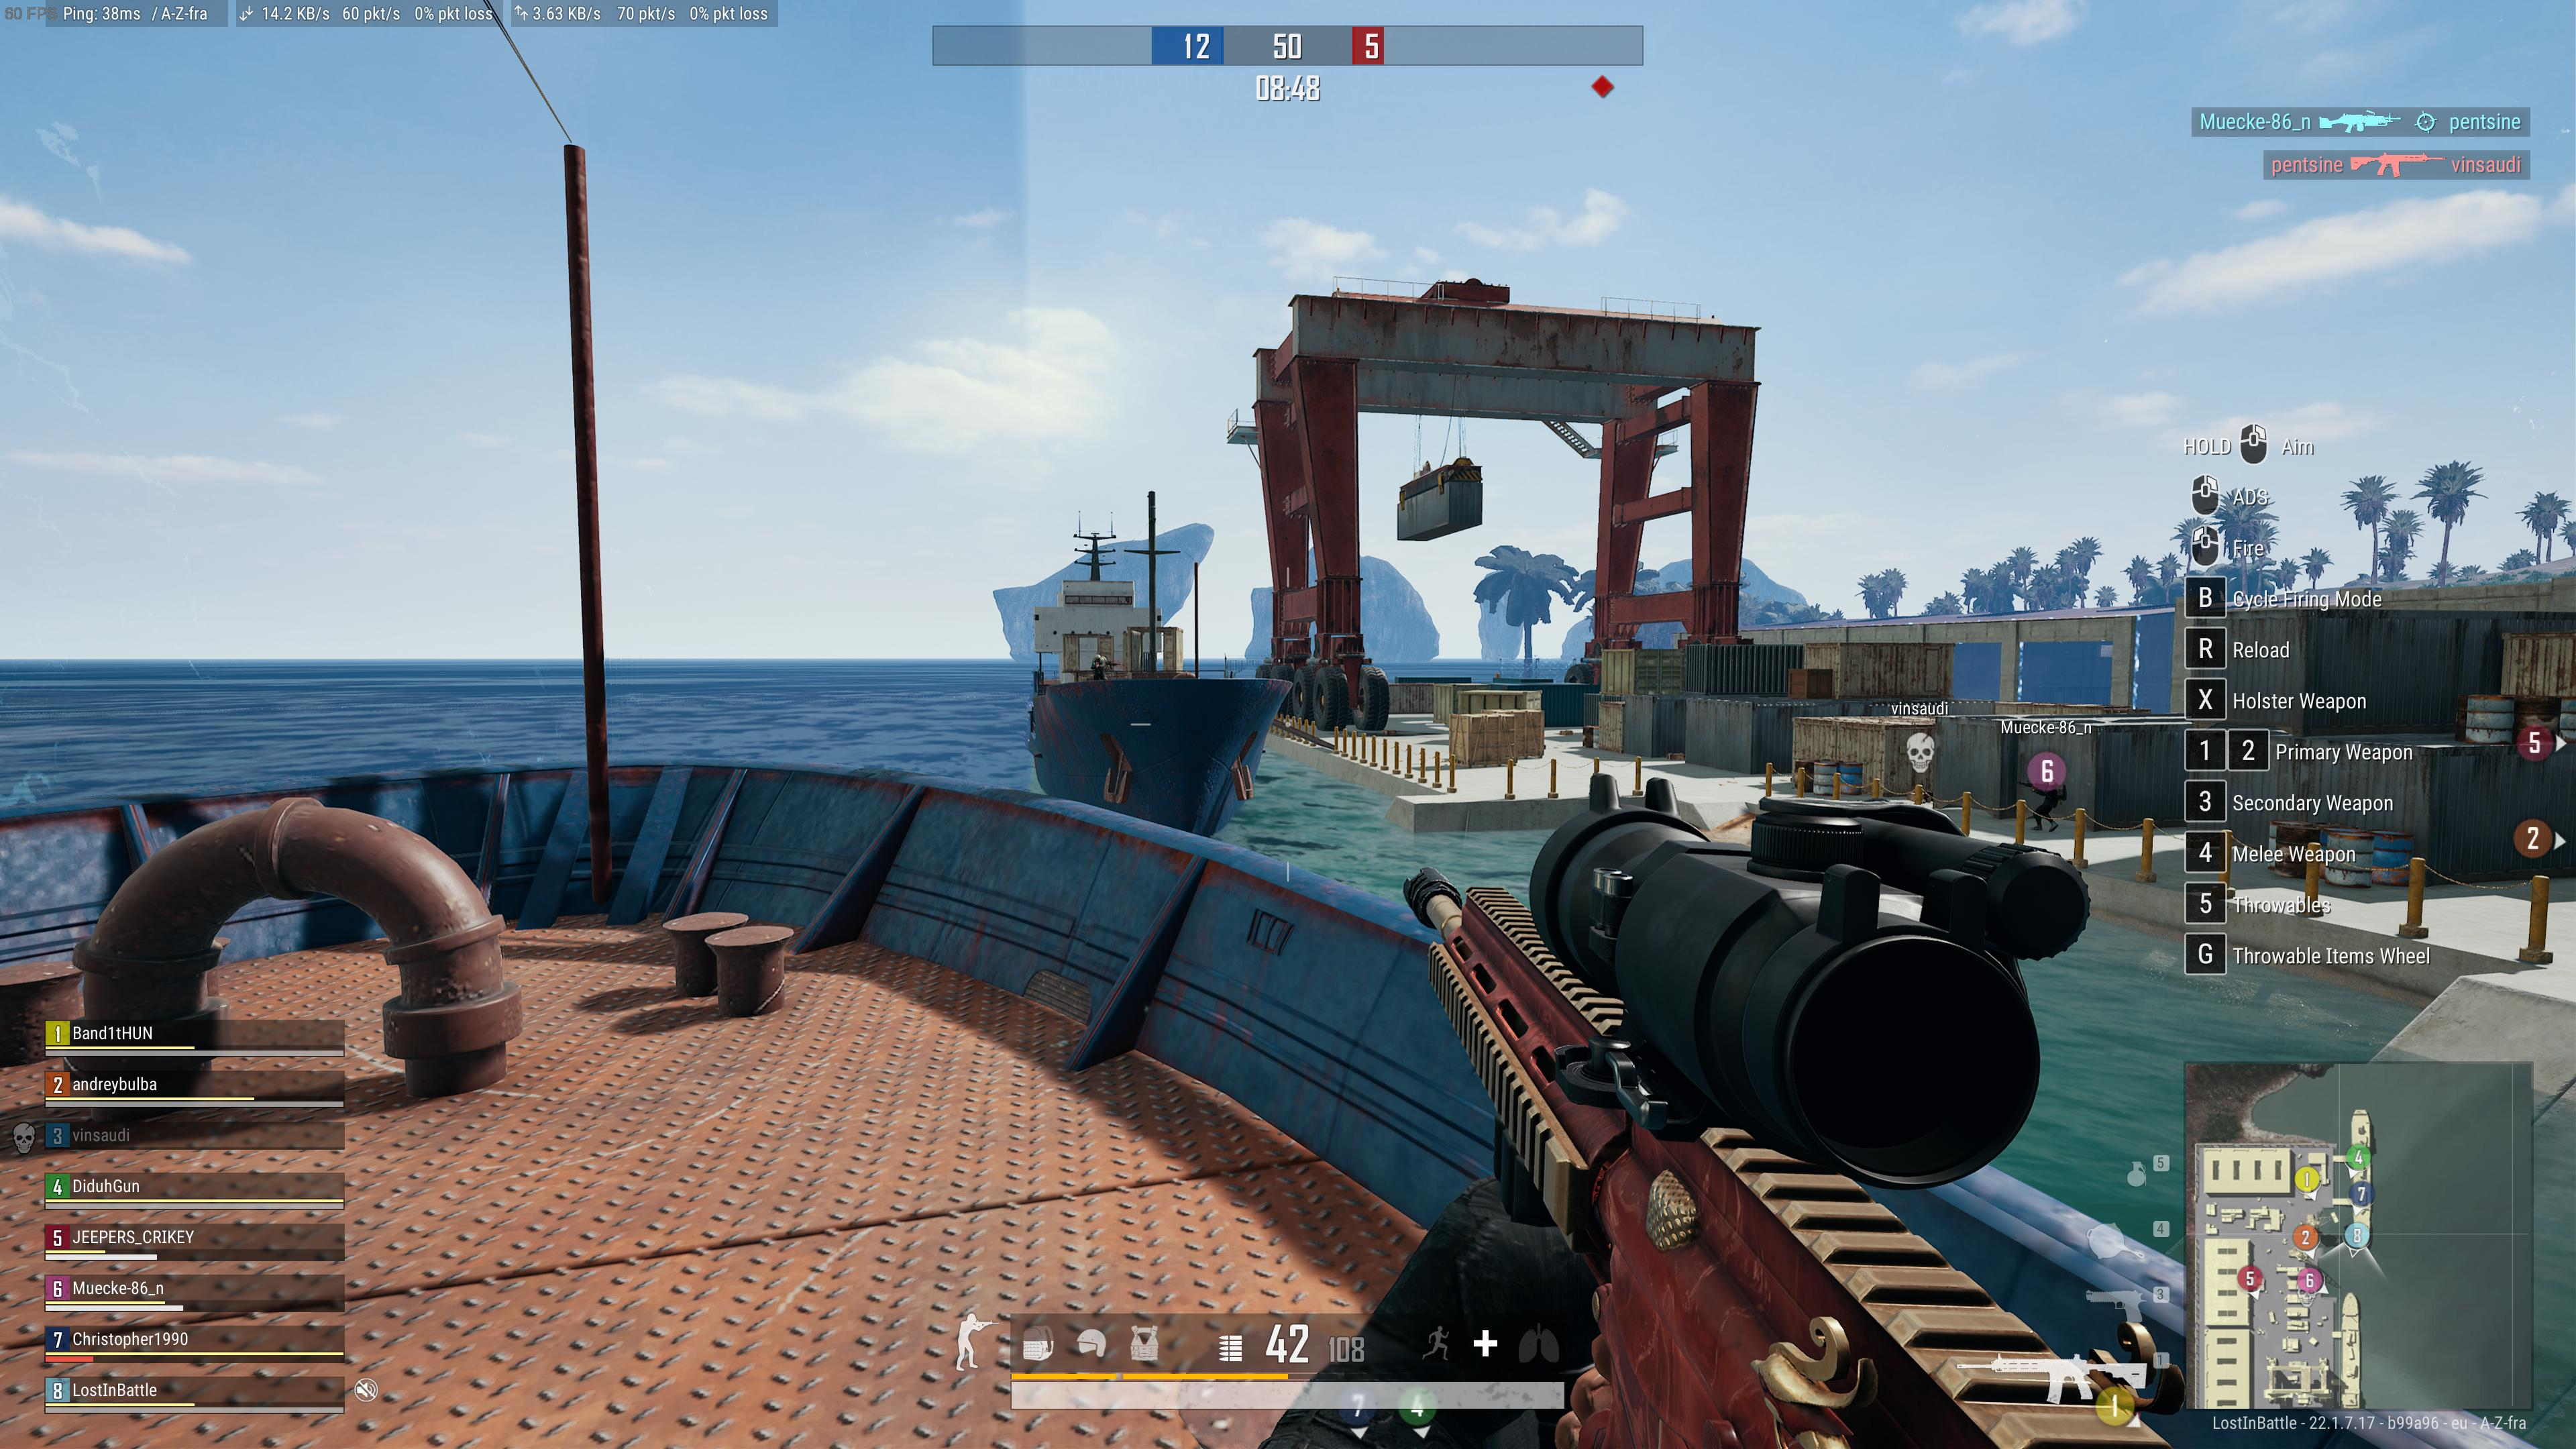enemy: (1090, 653, 1109, 679)
enemy_head: (1093, 653, 1100, 662)
friendly: (2028, 766, 2066, 832)
